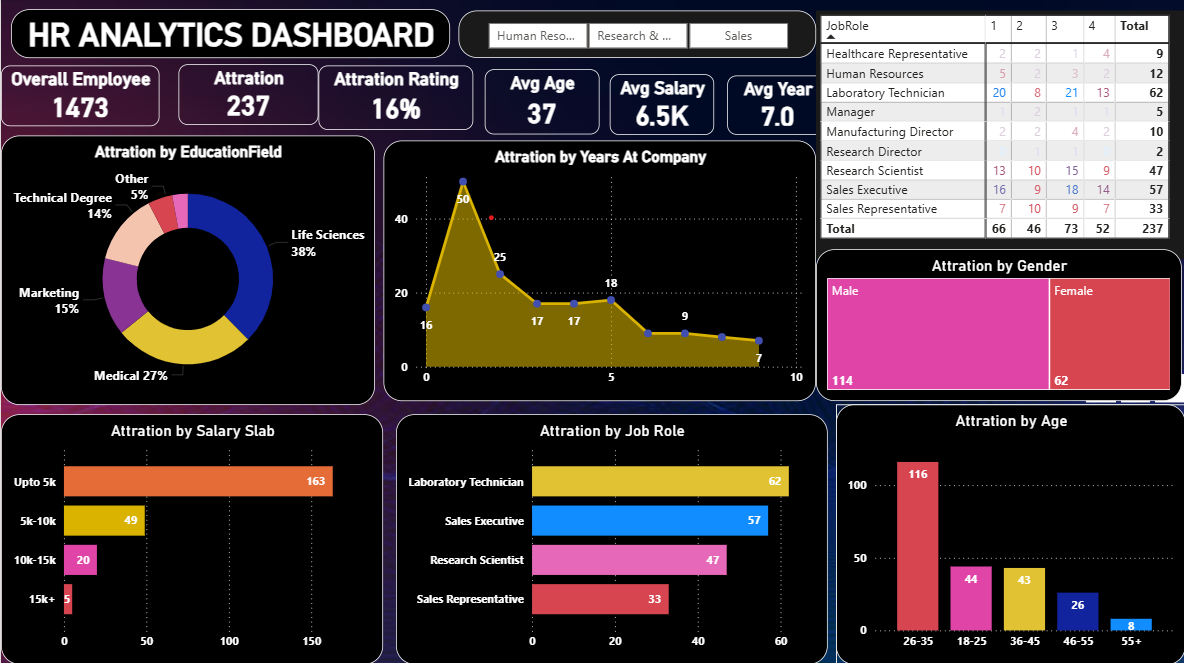

This screenshot's page, from the dashboard's own definition file:
{"tool":"powerbi","page":{"name":"HR Analytics Dashboard","canvas":[1280,720],"ordinal":0},"visuals":[{"type":"card","title":"Overall Employee","fields":{"Values":["CountNonNull(HR_Analytics.EmpID)"]},"box":[0,73.4,171.2,65.2],"z":0},{"type":"card","title":"Avg Year","fields":{"Values":["Avg(HR_Analytics.YearsAtCompany)"]},"box":[784.2,84.3,108.7,63.9],"z":1000},{"type":"card","title":"Avg Salary","fields":{"Values":["Avg(HR_Analytics.MonthlyIncome)"]},"box":[657.8,82.9,112.8,65.2],"z":2000},{"type":"card","title":"Attration Rating","fields":{"Values":["HR_Analytics.Attration Rate"]},"box":[342.5,73.4,167.2,69.3],"z":3000},{"type":"card","title":"Attration","fields":{"Values":["Sum(HR_Analytics.Attration count)"]},"box":[191.6,72,150.9,65.2],"z":4000},{"type":"card","title":"Avg Age","fields":{"Values":["Avg(HR_Analytics.Age)"]},"box":[523.3,77.5,123.7,70.7],"z":5000},{"type":"donutChart","title":" Attration by EducationField","fields":{"Category":["HR_Analytics.EducationField"],"Y":["Sum(HR_Analytics.Attration count)"]},"box":[0,148.1,403.7,290.8],"z":6000},{"type":"columnChart","title":" Attration by Age","fields":{"Category":["HR_Analytics.AgeGroup"],"Y":["Sum(HR_Analytics.Attration count)"]},"box":[902.4,439,377.8,281.3],"z":7000},{"type":"pivotTable","fields":{"Rows":["HR_Analytics.JobRole"],"Columns":["HR_Analytics.JobSatisfaction"],"Values":["Sum(HR_Analytics.Attration count)"]},"box":[880.4,13.5,399.9,269],"z":8000},{"type":"barChart","title":" Attration by Salary Slab","fields":{"Category":["HR_Analytics.SalarySlab"],"Y":["Sum(HR_Analytics.Attration count)"]},"box":[0,449.9,413.2,270.5],"z":9000},{"type":"barChart","title":" Attration by Job Role","fields":{"Y":["Sum(HR_Analytics.Attration count)"],"Category":["HR_Analytics.JobRole"]},"box":[426.8,449.9,466.2,270.5],"z":10000},{"type":"areaChart","title":" Attration by Years At Company","fields":{"Category":["HR_Analytics.YearsAtCompany"],"Y":["Sum(HR_Analytics.Attration count)"]},"box":[413.2,153.6,467.5,281.3],"z":11000},{"type":"treemap","title":" Attration by Gender","fields":{"Group":["HR_Analytics.Gender"],"Values":["Sum(HR_Analytics.Attration count)"]},"box":[880.4,271.5,395,163.9],"z":12000},{"type":"slicer","fields":{"Values":["HR_Analytics.Department"]},"box":[494,13.5,386.4,51.4],"z":13000},{"type":"textbox","title":"HR ANALYTICS DASHBOARD","box":[10.9,12.2,474.3,53],"z":14000}]}

Visuals, with their boxes in screenshot pixels (x1, y1, x2, y2), scaled from the page's 1280x720 canvas onto the 1184x663 screenshot:
"Overall Employee" card: detection(0, 68, 158, 128)
"Avg Year" card: detection(725, 78, 826, 136)
"Avg Salary" card: detection(608, 76, 713, 136)
"Attration Rating" card: detection(317, 68, 471, 131)
"Attration" card: detection(177, 66, 317, 126)
"Avg Age" card: detection(484, 71, 598, 136)
" Attration by EducationField" donutChart: detection(0, 136, 373, 404)
" Attration by Age" columnChart: detection(835, 404, 1183, 662)
pivotTable - HR_Analytics.JobRole x HR_Analytics.JobSatisfaction: detection(814, 12, 1183, 260)
" Attration by Salary Slab" barChart: detection(0, 414, 382, 662)
" Attration by Job Role" barChart: detection(395, 414, 826, 662)
" Attration by Years At Company" areaChart: detection(382, 141, 815, 400)
" Attration by Gender" treemap: detection(814, 250, 1180, 401)
slicer - HR_Analytics.Department: detection(457, 12, 814, 60)
"HR ANALYTICS DASHBOARD" textbox: detection(10, 11, 449, 60)
